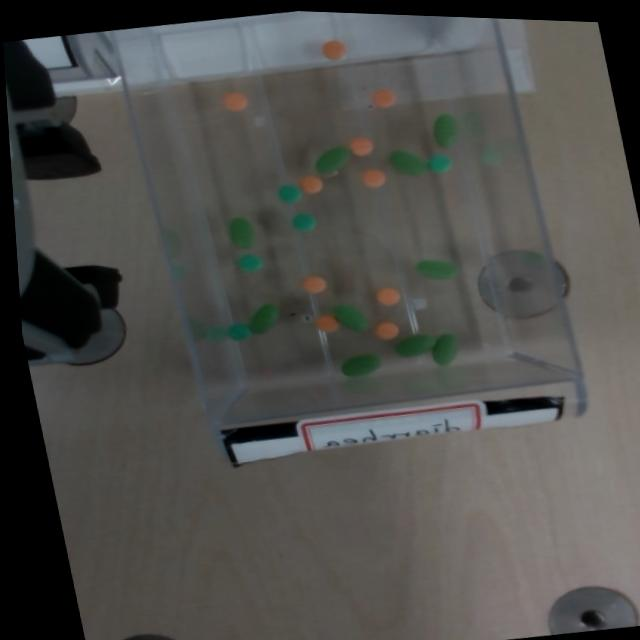famodine: (236, 254, 263, 274), (277, 184, 302, 204), (427, 154, 453, 173), (237, 254, 263, 272), (292, 213, 316, 232), (278, 185, 302, 204), (292, 214, 316, 232), (428, 155, 451, 173), (228, 324, 250, 342), (227, 325, 251, 341)
otillen_tab: (243, 302, 283, 335), (413, 257, 460, 285), (387, 148, 429, 179), (311, 145, 354, 175), (330, 302, 369, 335), (428, 112, 463, 148), (428, 333, 462, 368), (338, 354, 384, 379), (226, 216, 258, 251), (393, 335, 439, 358), (315, 147, 350, 174), (332, 305, 368, 331), (249, 304, 279, 334), (390, 152, 427, 176), (433, 114, 459, 148), (416, 260, 458, 281), (341, 355, 381, 377), (395, 336, 436, 357), (431, 335, 458, 366), (229, 218, 255, 249)
samsung_octylonium_tab: (347, 135, 375, 158), (319, 40, 348, 59), (222, 91, 248, 112), (375, 286, 401, 306), (373, 322, 400, 341), (302, 275, 327, 295), (361, 168, 386, 188), (297, 174, 322, 194), (315, 314, 339, 334), (374, 322, 399, 341), (298, 176, 323, 195), (349, 138, 373, 157), (362, 169, 386, 188), (322, 41, 346, 60), (223, 93, 247, 112), (376, 288, 400, 306), (372, 90, 396, 108), (374, 89, 396, 108), (302, 277, 326, 294), (316, 315, 339, 332)
